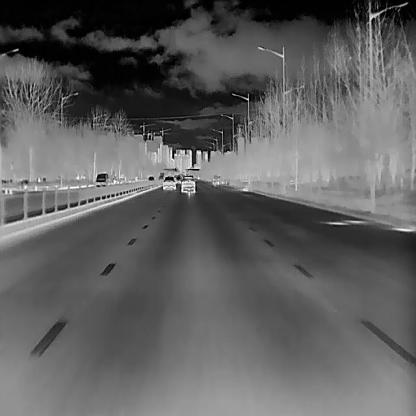car: (180, 174, 195, 192), (94, 171, 109, 187), (162, 174, 175, 189), (212, 174, 221, 185), (173, 174, 180, 183), (147, 175, 155, 180)
